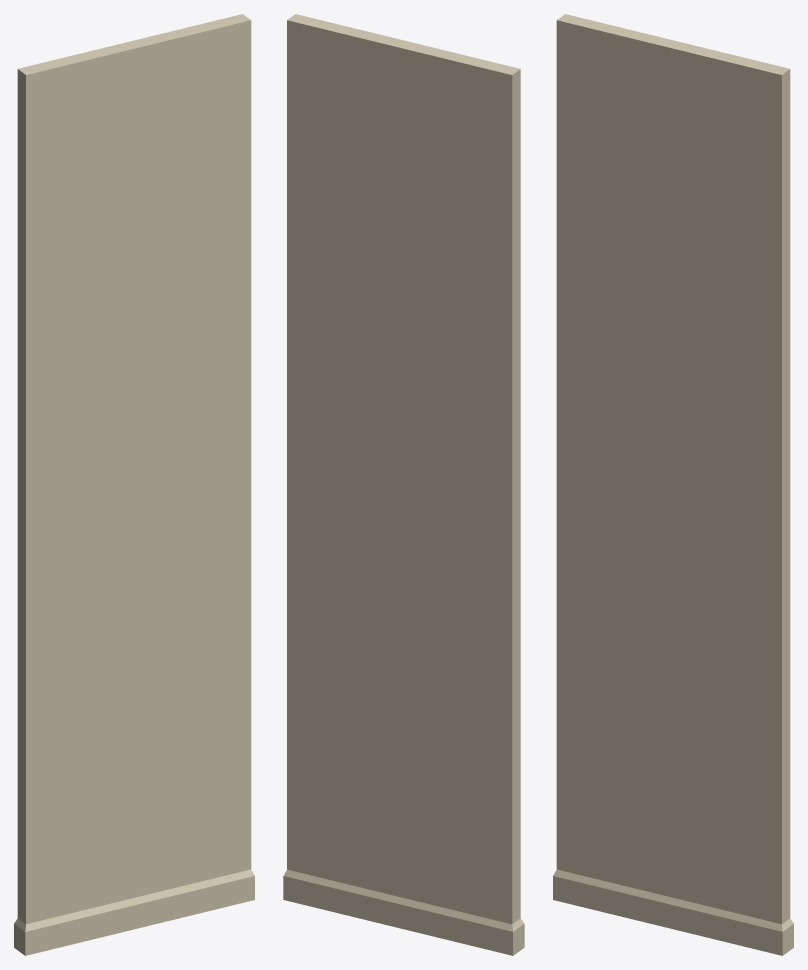
The model's file is WALL_BROKEN.fbx.
3 renders of one model, left to right at view 1: azimuth 30°, elevation 25°; view 2: azimuth 150°, elevation 25°; view 3: azimuth 330°, elevation 25°, orthographic.
Visible parts, largest first — view 1: Cube.004, Cube.005, Cube.007, Cube.026, Cube.002, Cube.027, Cube.012, Cube.010, Cube.009, Cube.014, Cube.023, Cube.020 (+10 smaller); view 2: Cube.004, Cube.005, Cube.007, Cube.026, Cube.002, Cube.027, Cube.012, Cube.010, Cube.009, Cube.014, Cube.023, Cube.020 (+10 smaller); view 3: Cube.004, Cube.005, Cube.007, Cube.026, Cube.002, Cube.027, Cube.012, Cube.010, Cube.014, Cube.009, Cube.020, Cube.023 (+10 smaller).
Boxes of the visible parts, x1,y1,x2,y2 form: Cube.004: (17,14,251,459); Cube.005: (17,330,251,659); Cube.007: (17,404,107,672); Cube.026: (152,771,251,886); Cube.002: (14,869,254,955); Cube.027: (60,798,181,915); Cube.012: (17,672,136,759); Cube.010: (154,587,251,732); Cube.009: (107,605,215,728); Cube.014: (158,664,251,770); Cube.023: (17,741,120,830); Cube.020: (17,760,136,863); Cube.004: (287,14,520,459); Cube.005: (287,330,520,659); Cube.007: (431,404,520,672); Cube.026: (287,771,385,886); Cube.002: (283,869,524,955); Cube.027: (357,798,477,915); Cube.012: (402,672,520,759); Cube.010: (287,587,384,732); Cube.009: (323,605,430,728); Cube.014: (287,664,379,770); Cube.023: (417,741,520,830); Cube.020: (401,760,520,863); Cube.004: (556,14,790,514); Cube.005: (556,281,790,644); Cube.007: (556,355,638,645); Cube.026: (683,803,790,924); Cube.002: (553,869,793,955); Cube.027: (591,805,711,906); Cube.012: (556,645,667,751); Cube.010: (684,635,790,742); Cube.014: (689,713,790,803); Cube.009: (638,642,745,736); Cube.020: (556,751,667,808); Cube.023: (556,692,651,775).
Bounding box in the file's own units: 1000 × 3658 × 85.63.
